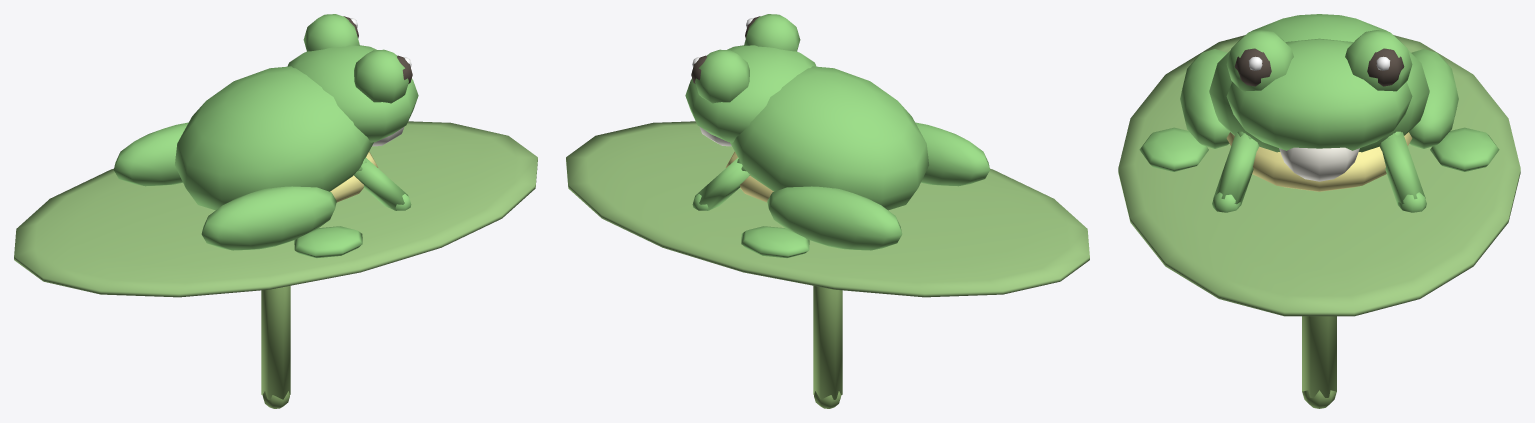
The model's file is taipei-tree-frog.glb.
3 renders of one model, left to right at view 1: azimuth 30°, elevation 25°; view 2: azimuth 150°, elevation 25°; view 3: azimuth 270°, elevation 25°, orthographic. The views are drawn at different scales.
Parts seen in each view (by area): view 1: e, e.003, e.005; view 2: e, e.003, e.005; view 3: e, e.003, e.005, e.012.
Part boxes in pixels (x1,y1,x2,y2): e: (14,121,537,408); e.003: (114,66,411,257); e.005: (287,14,418,142); e: (566,121,1089,408); e.003: (692,66,989,257); e.005: (685,14,816,142); e: (1118,35,1520,408); e.003: (1139,14,1499,212); e.005: (1226,30,1412,150); e.012: (1279,147,1359,181).
Size of the model in its own units: 1.17 by 0.8 by 0.6929.
